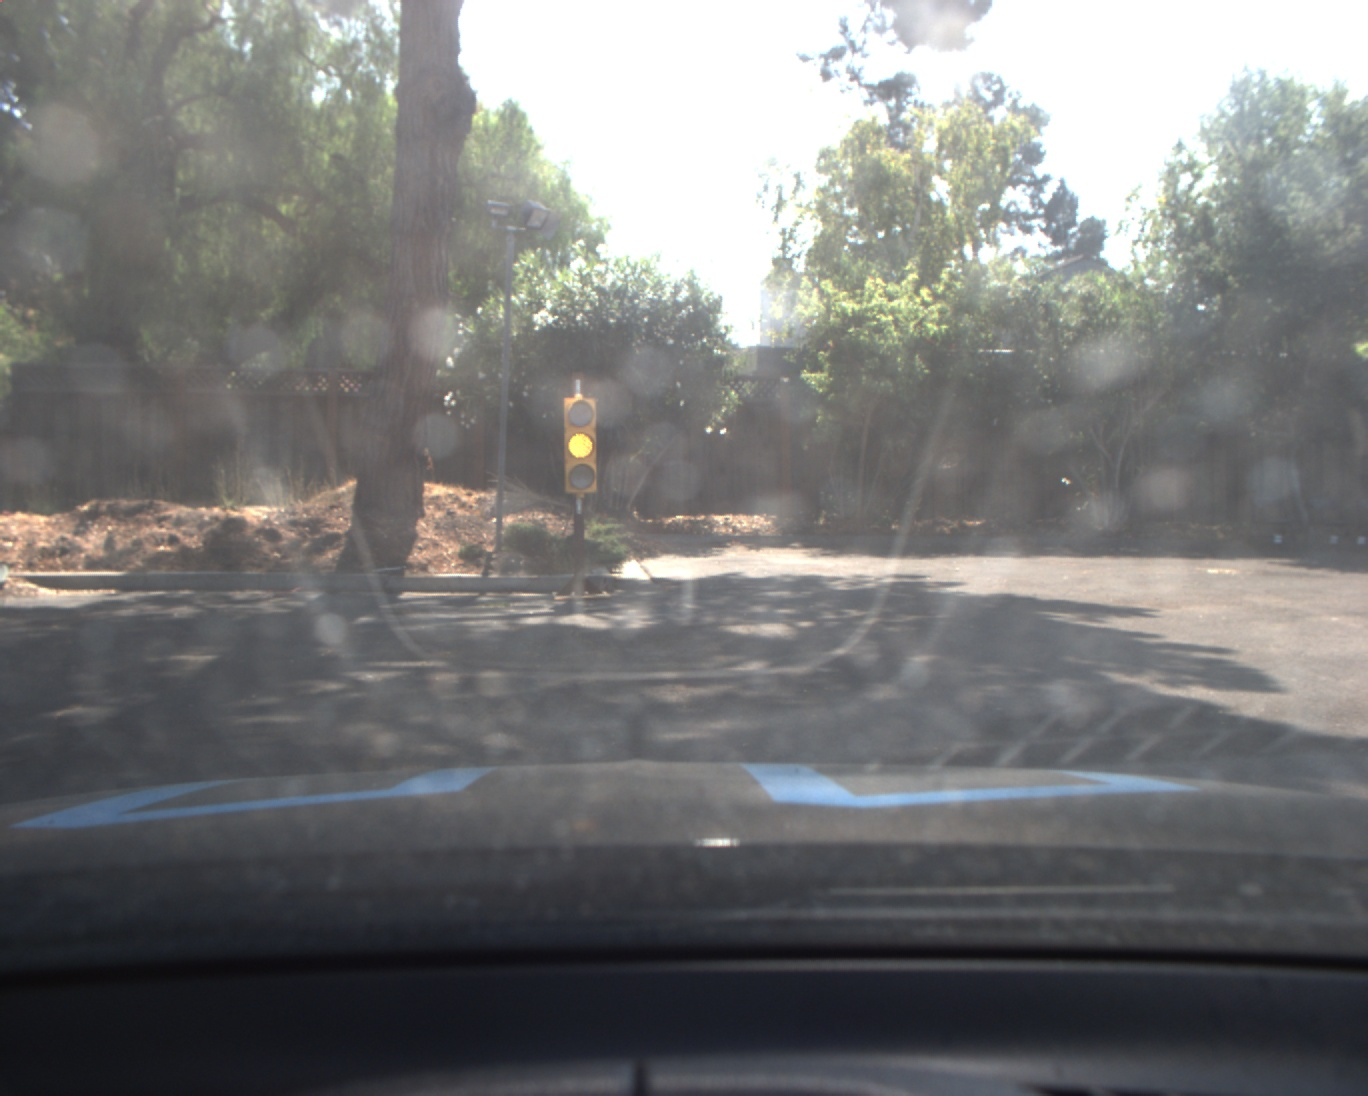yellow: (563, 396, 596, 493)
